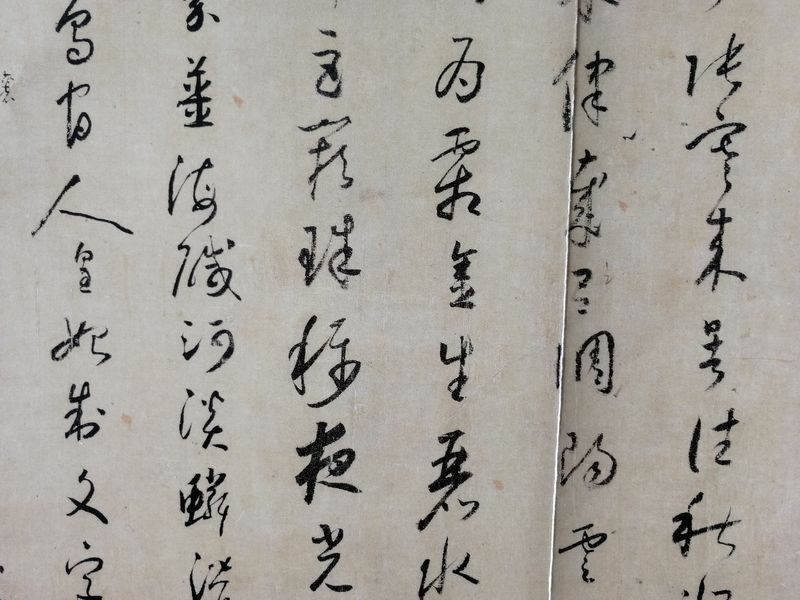zi: (287, 315, 362, 409), (30, 173, 135, 236), (418, 433, 478, 530), (683, 113, 753, 194), (295, 421, 362, 505), (560, 149, 612, 246), (300, 213, 361, 295), (671, 492, 743, 561), (175, 231, 244, 303), (433, 129, 486, 220), (557, 52, 612, 130), (696, 211, 747, 294), (554, 329, 617, 396), (300, 115, 352, 194), (683, 34, 748, 97), (166, 154, 225, 223), (177, 465, 232, 533), (179, 382, 230, 454), (178, 313, 237, 375), (418, 539, 477, 600), (549, 522, 606, 584), (308, 523, 356, 596), (556, 430, 615, 487), (175, 54, 218, 131), (435, 35, 485, 100), (51, 315, 116, 365), (688, 408, 736, 471), (691, 316, 732, 388), (61, 466, 108, 527), (54, 1, 96, 68), (62, 378, 104, 442), (54, 80, 94, 147), (436, 335, 476, 400), (63, 539, 104, 600), (310, 29, 342, 99), (187, 547, 229, 600), (448, 241, 477, 312), (566, 268, 599, 323), (73, 240, 100, 296), (184, 1, 223, 37), (684, 574, 730, 600)
